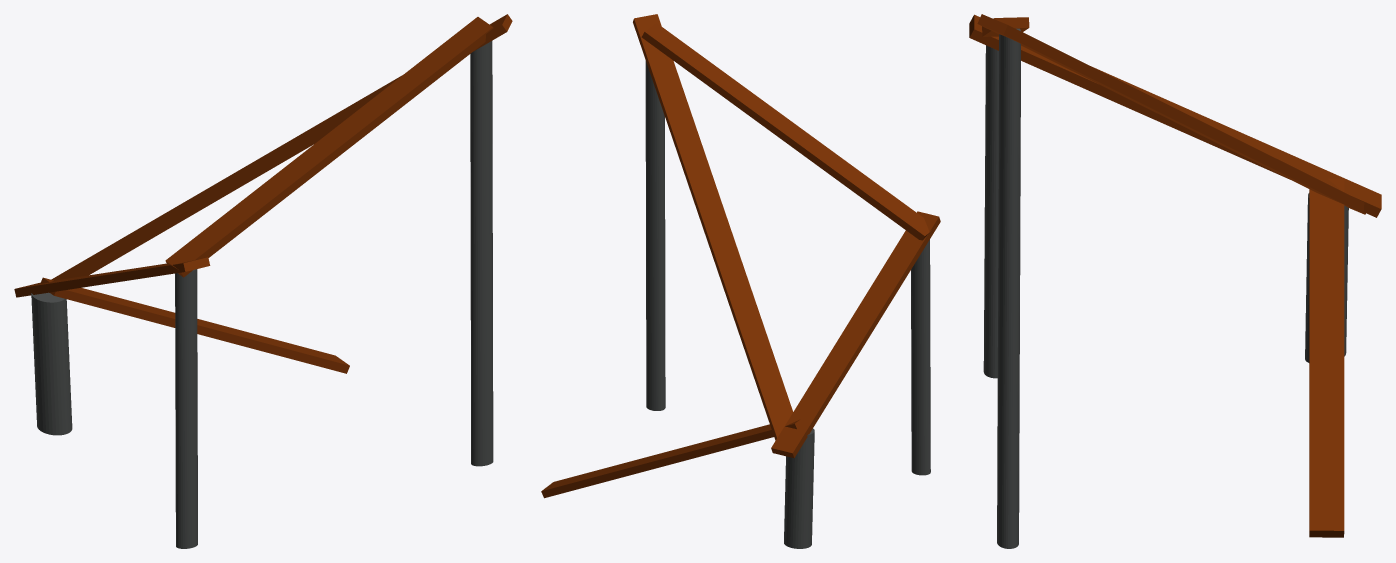
Rendered from preview.fbx.
3 views of the same model, side by side, from view 1: azimuth 30°, elevation 25°; view 2: azimuth 150°, elevation 25°; view 3: azimuth 270°, elevation 25° (orthographic). The views are drawn at different scales.
Parts seen in each view (by area): view 1: Cylindre, Cube.003, Cube.004, Cube.002, Cube.001; view 2: Cylindre, Cube.004, Cube.003, Cube.001, Cube.002; view 3: Cylindre, Cube.002, Cube.004, Cube.001.
Boxes of the visible parts, x1,y1,x2,y2 form: Cylindre: [31, 41, 493, 548]; Cube.003: [165, 17, 493, 277]; Cube.004: [49, 14, 512, 292]; Cube.002: [40, 277, 349, 373]; Cube.001: [14, 257, 210, 297]; Cylindre: [645, 60, 930, 548]; Cube.004: [633, 14, 792, 440]; Cube.003: [641, 22, 934, 240]; Cube.001: [771, 211, 940, 458]; Cube.002: [541, 419, 800, 498]; Cylindre: [983, 28, 1348, 548]; Cube.002: [1309, 178, 1344, 537]; Cube.004: [977, 14, 1365, 214]; Cube.001: [969, 14, 1381, 217].
Size of the model in its own units: 416 by 519 by 359.
